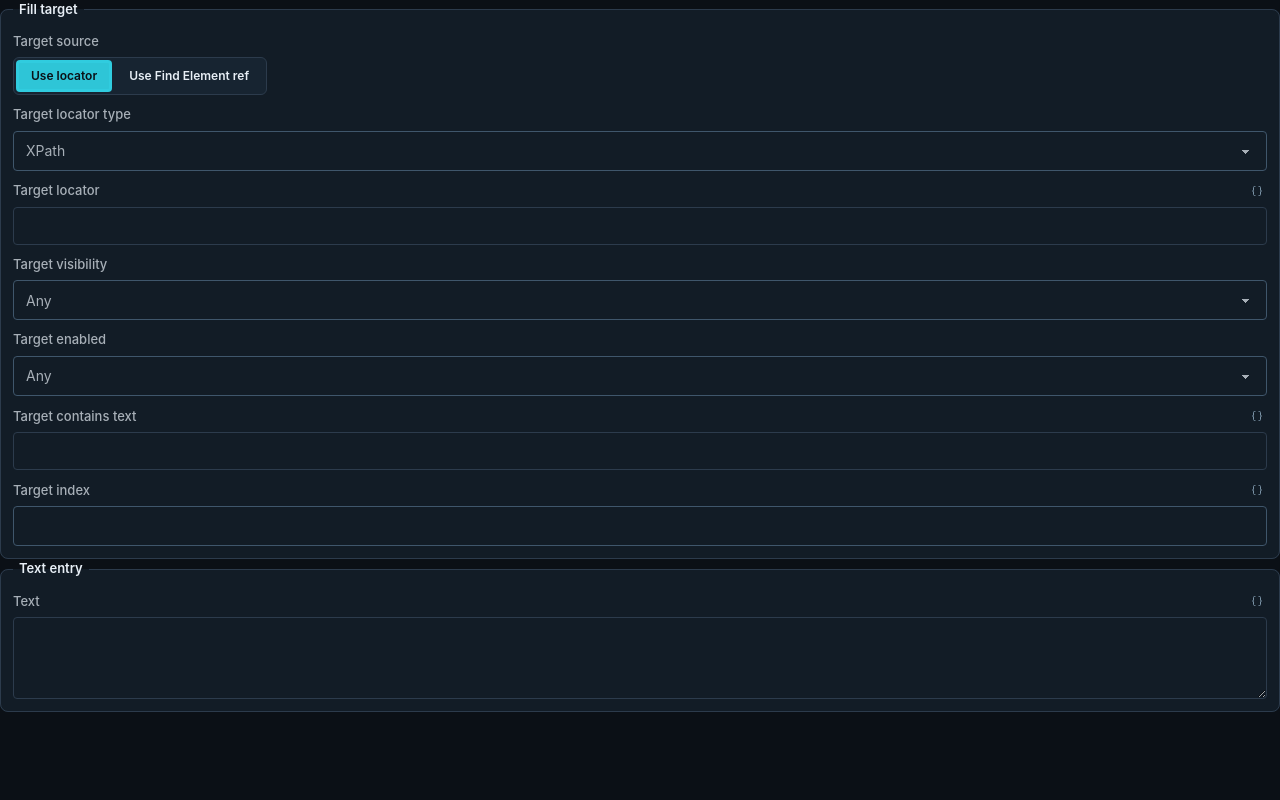
Test: ActionConfigEditor › shows graph variable options in template fields
Step 1. Click the button named "Insert variable for Text" → (1257, 601), box x1=1247 y1=591 x2=1267 y2=611
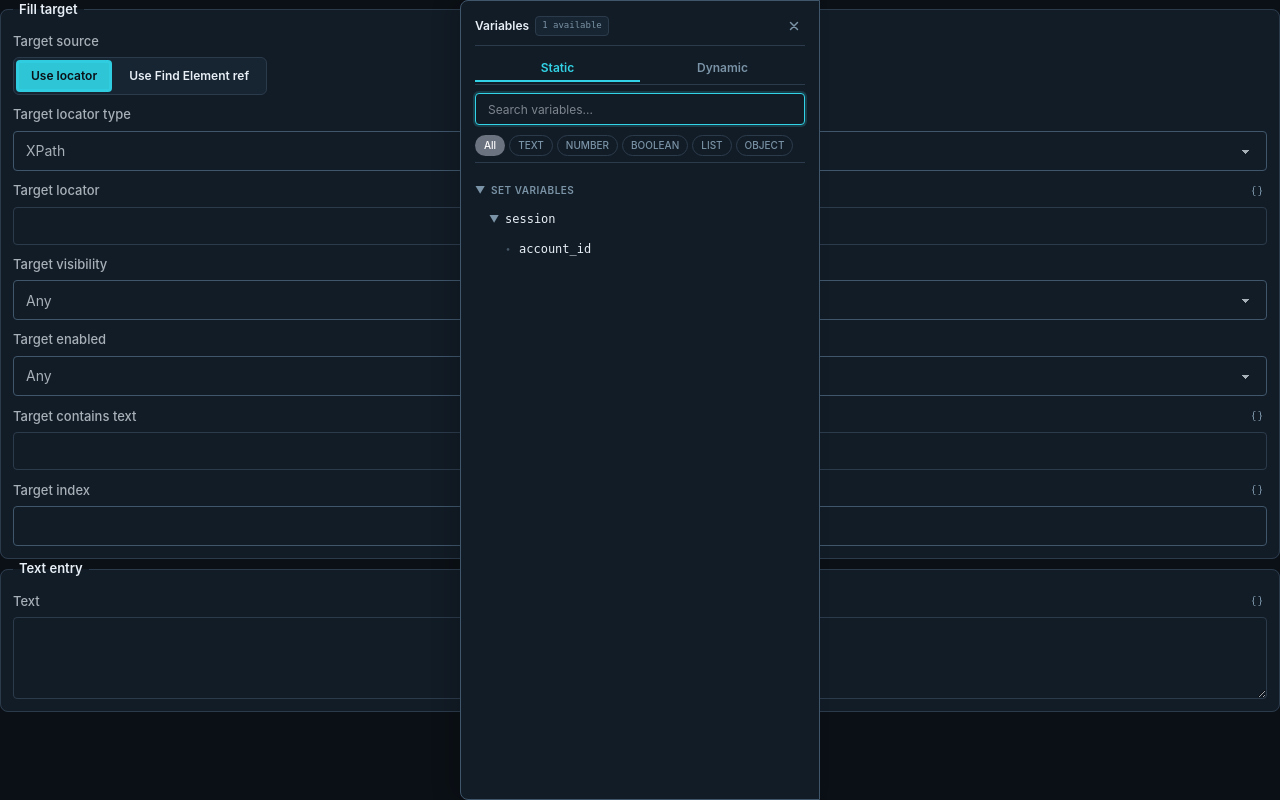
Expected: the text "Set Variables" is shown, x1=491 y1=182 x2=574 y2=198
Expected: the text "account_id" is shown, x1=519 y1=241 x2=591 y2=257
